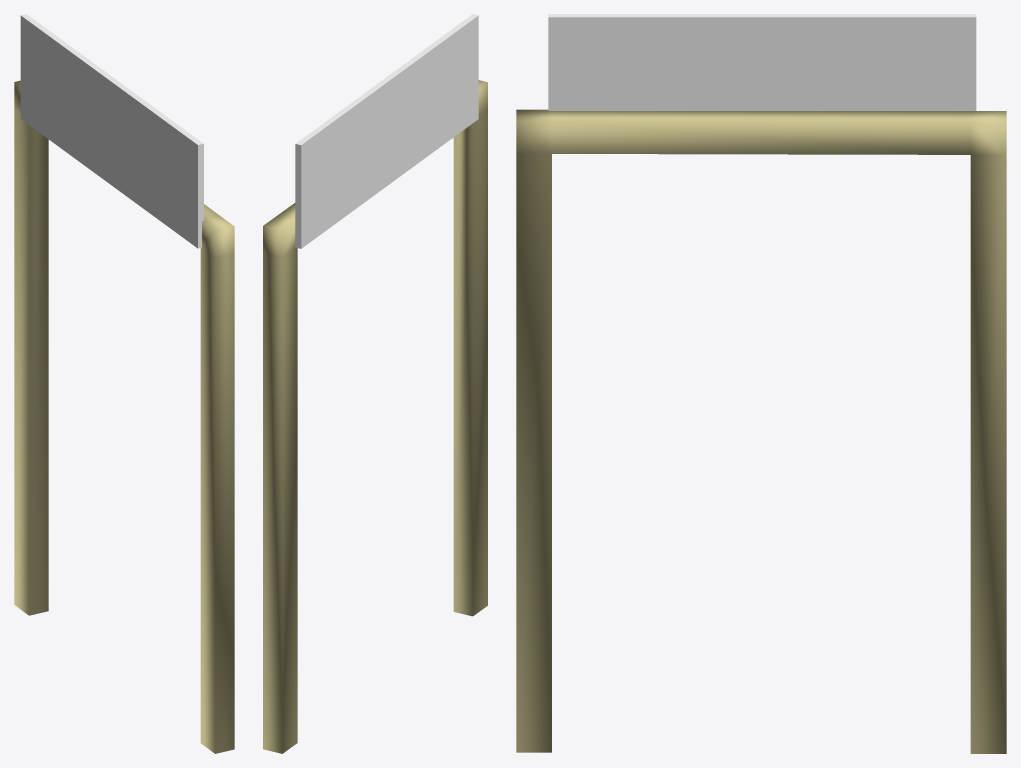
The model's file is crossing fbx.fbx.
3 views of the same model, side by side, from view 1: azimuth 30°, elevation 25°; view 2: azimuth 150°, elevation 25°; view 3: azimuth 270°, elevation 25° (orthographic). The views are drawn at different scales.
Visible parts, largest first — view 1: NurbsPath.019, Cube; view 2: NurbsPath.019, Cube; view 3: NurbsPath.019, Cube.
Boxes of the visible parts, x1=… form: NurbsPath.019: x1=14, y1=80, x2=234, y2=753; Cube: x1=20, y1=14, x2=203, y2=248; NurbsPath.019: x1=263, y1=80, x2=487, y2=753; Cube: x1=295, y1=14, x2=478, y2=248; NurbsPath.019: x1=516, y1=109, x2=1006, y2=753; Cube: x1=548, y1=14, x2=976, y2=110.
Bounding box in the file's own units: 11.19 × 251 × 154.
Materials: 2 (2 with a texture image).
